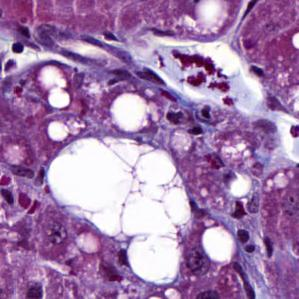ballooning: (45, 134, 194, 287)
